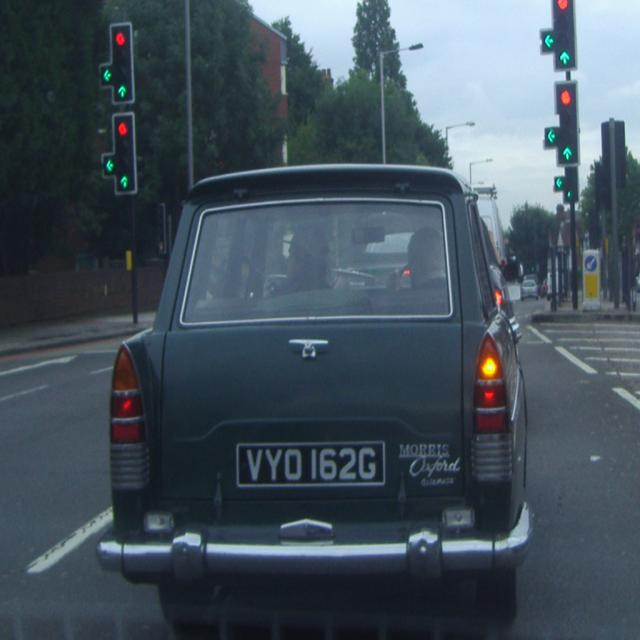car: (106, 159, 524, 612)
